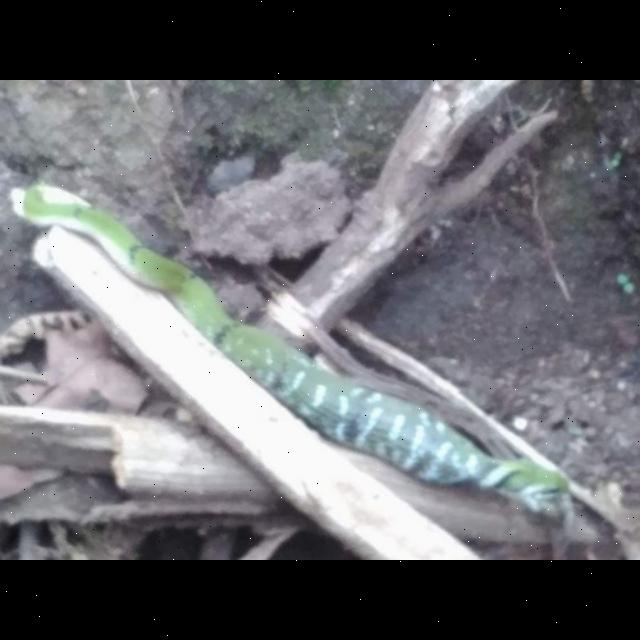snake: (1, 168, 582, 516)
